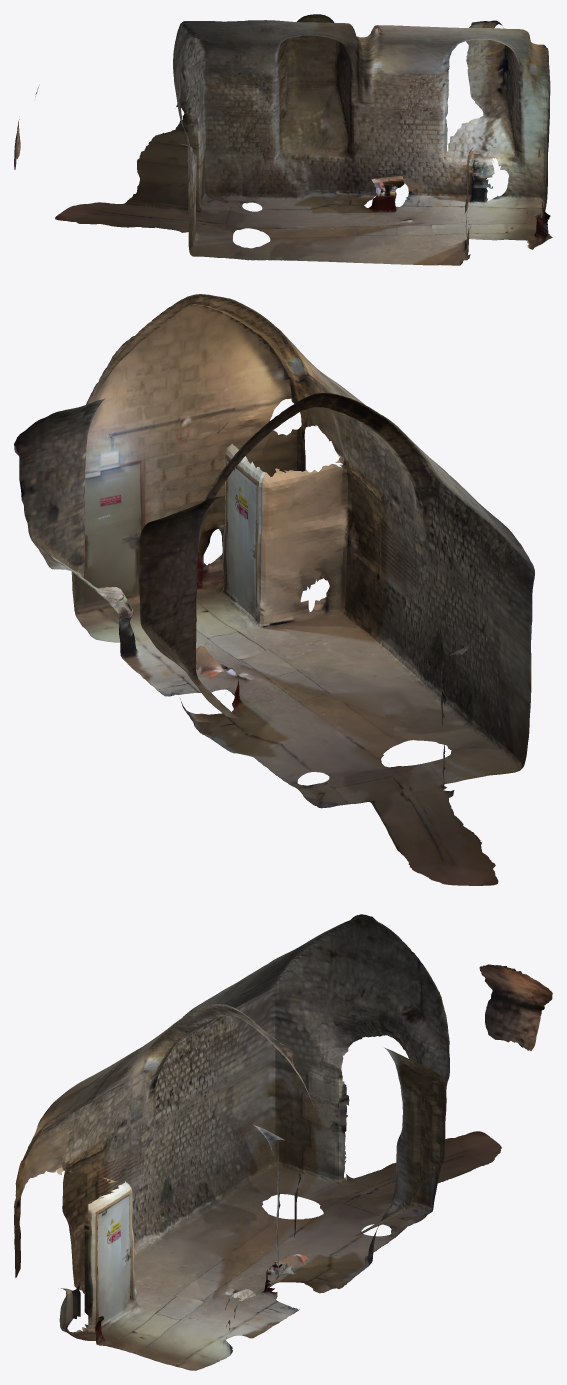
File: parisThermes.glb
3 views of the same model, one above another, from view 1: azimuth 30°, elevation 25°; view 2: azimuth 150°, elevation 25°; view 3: azimuth 270°, elevation 25° (orthographic). The views are drawn at different scales.
Visible parts, largest first — view 1: mesh; view 2: mesh; view 3: mesh.
Part boxes in pixels (<box>): mesh: <box>14,14,552,265</box>; mesh: <box>14,294,534,885</box>; mesh: <box>14,914,552,1370</box>.
Bounding box in the file's own units: 10.37 × 4.85 × 8.65.
Materials: 1 (1 with a texture image).
